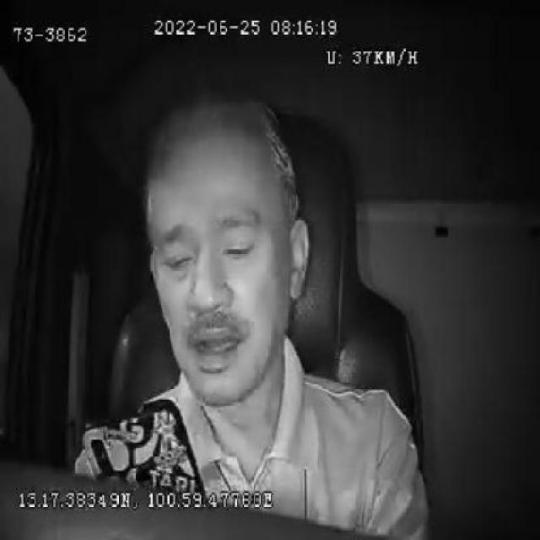phone: (80, 396, 209, 494)
